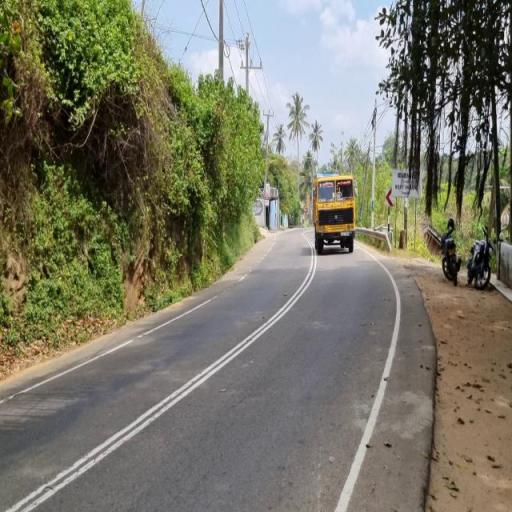double_white_line: (4, 237, 315, 512)
